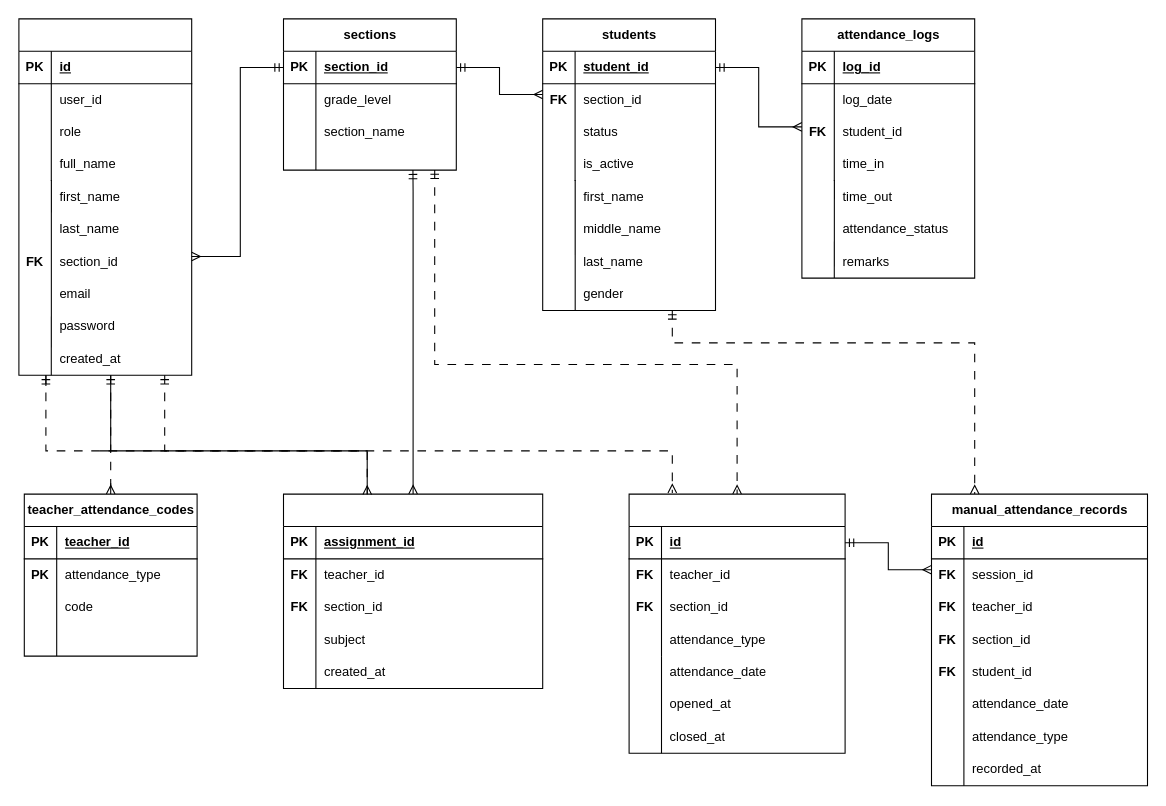
Some shapes in this 1166 by 806 pixel diagram are drawn without their labels. Each missing label, with the box of its shape:
manual_attendance_sessions: (628, 493, 845, 753)
teacher_other_section_assignments: (282, 493, 543, 688)
teachers: (18, 18, 192, 375)
